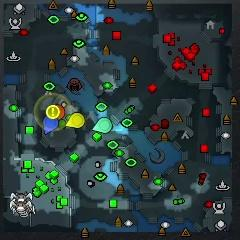Other: (46, 105, 60, 119)
p1: (43, 114, 57, 133)
p2: (94, 117, 113, 134)
p4: (66, 113, 85, 129)
p5: (54, 103, 65, 120)
